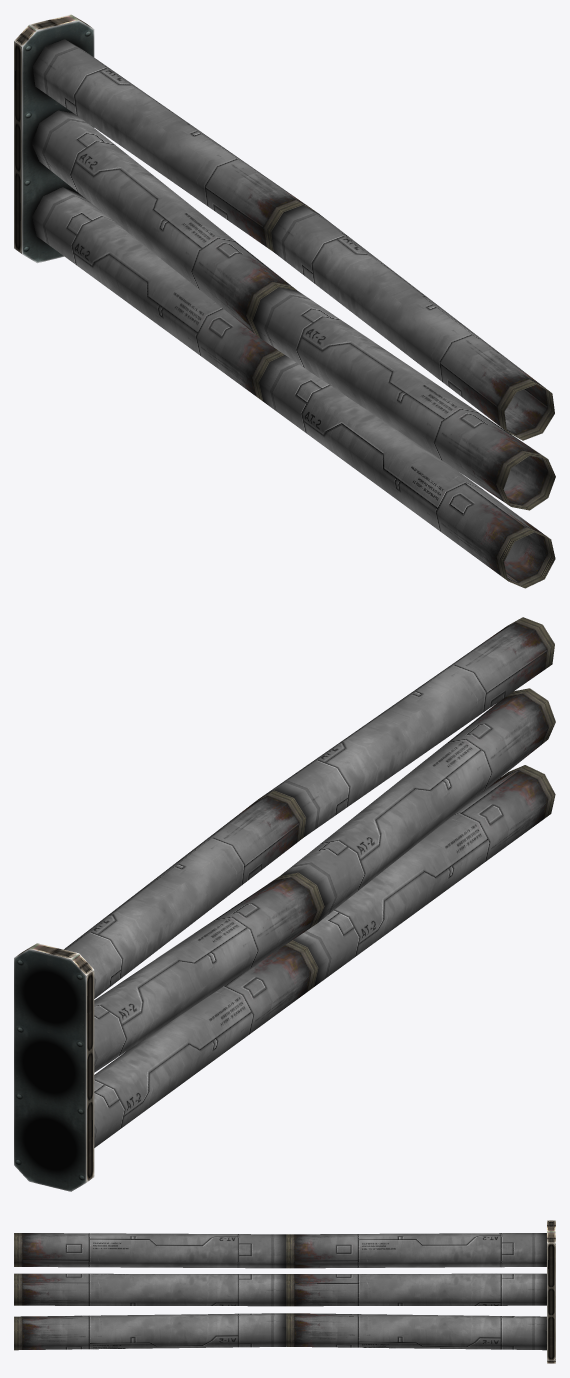
File: mprw_pipes_3_long.FBX
3 views of the same model, one above another, from view 1: azimuth 30°, elevation 25°; view 2: azimuth 150°, elevation 25°; view 3: azimuth 270°, elevation 25° (orthographic). The views are drawn at different scales.
Parts seen in each view (by area): view 1: mprw_pipes_3_long; view 2: mprw_pipes_3_long; view 3: mprw_pipes_3_long.
Part boxes in pixels (x1,y1,x2,y2): mprw_pipes_3_long: (14,14,555,588); mprw_pipes_3_long: (14,617,555,1191); mprw_pipes_3_long: (14,1220,555,1363).
Bounding box in the file's own units: 60.98 × 187 × 700.
Materials: 1 (1 with a texture image).
